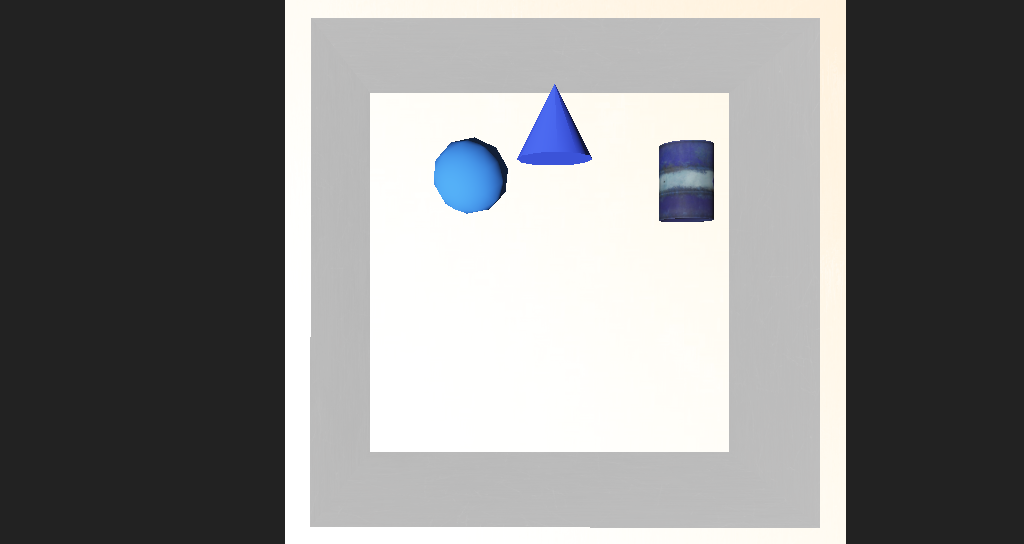cone: (593, 191, 647, 239)
cylinder: (482, 155, 542, 208)
sphere: (404, 186, 472, 234)
